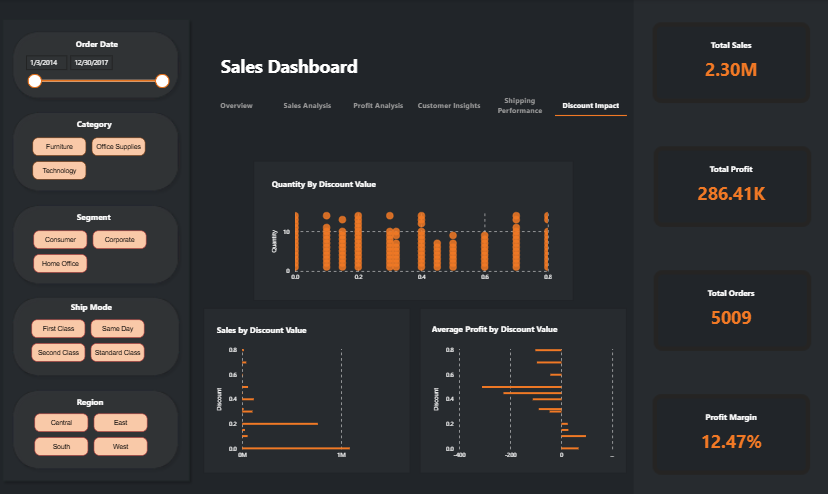

The dashboard page shown, as its layout file describes it:
{"tool":"powerbi","page":{"name":"Discount Impact","canvas":[1500,900],"ordinal":5},"visuals":[{"type":"textbox","box":[396,94,272,68],"z":0},{"type":"slicer","fields":{"Values":["DimOrder.Order Date"]},"box":[35.6,91.6,280,78.9],"z":1000},{"type":"ChicletSlicer1448559807354","fields":{"Category":["DimCategory.Category"]},"box":[51.5,240.2,244,102],"z":2000},{"type":"textbox","box":[133.3,64.9,206.7,35.6],"z":3000},{"type":"textbox","box":[135.5,210.2,208,36],"z":4000},{"type":"ChicletSlicer1448559807354","fields":{"Category":["DimSegment.Segment"]},"box":[51.8,408.2,244.4,102.2],"z":5000},{"type":"textbox","box":[136.2,378.2,207.8,35.6],"z":6000},{"type":"ChicletSlicer1448559807354","fields":{"Category":["DimShipping.Ship Mode"]},"box":[49.1,569.8,244.4,102.2],"z":7000},{"type":"textbox","box":[124.2,539.6,208,36],"z":8000},{"type":"ChicletSlicer1448559807354","fields":{"Category":["DimRegion.Region"]},"box":[54,740,244,102],"z":9000},{"type":"textbox","box":[136,712,208,36],"z":10000},{"type":"card","title":"Total Sales","fields":{"Values":["Sum(FactSales.Sales)"]},"box":[1218,72,210,88],"z":11000},{"type":"card","title":"Total Profit","fields":{"Values":["Sum(FactSales.Profit)"]},"box":[1218,296,210,88],"z":12000},{"type":"card","title":"Total Orders","fields":{"Values":["Count(FactSales.Order ID)"]},"box":[1218,520,210,88],"z":13000},{"type":"card","title":"Profit Margin","fields":{"Values":["FactSales.Profit Margin %"]},"box":[1218,744,210,88],"z":14000},{"type":"pageNavigator","box":[370,166,758,50],"z":15000},{"type":"shape","box":[1004,182,130,56],"z":16000},{"type":"textbox","box":[388,582,280,38],"z":17000},{"type":"clusteredBarChart","fields":{"Y":["Sum(FactSales.Sales)"],"Category":["FactSales.Discount"]},"box":[388,620,336,222],"z":18000},{"type":"textbox","box":[778,580,280,38],"z":19000},{"type":"clusteredBarChart","fields":{"Category":["FactSales.Discount"],"Y":["Avg(FactSales.Profit)"]},"box":[780,620,336,222],"z":20000},{"type":"scatterChart","fields":{"X":["FactSales.Discount"],"Y":["FactSales.Quantity"]},"box":[488,370,516,150],"z":21000},{"type":"textbox","box":[488,318,280,38],"z":22000}]}

Visuals, with their boxes in screenshot pixels (x1, y1, x2, y2), scaled from the page's 1500x900 canvas onto the 828x495 screenshot:
textbox: <bbox>219, 52, 369, 89</bbox>
slicer - DimOrder.Order Date: <bbox>20, 50, 174, 94</bbox>
ChicletSlicer1448559807354 - DimCategory.Category: <bbox>28, 132, 163, 188</bbox>
textbox: <bbox>74, 36, 188, 55</bbox>
textbox: <bbox>75, 116, 190, 135</bbox>
ChicletSlicer1448559807354 - DimSegment.Segment: <bbox>29, 225, 164, 281</bbox>
textbox: <bbox>75, 208, 190, 228</bbox>
ChicletSlicer1448559807354 - DimShipping.Ship Mode: <bbox>27, 313, 162, 370</bbox>
textbox: <bbox>69, 297, 183, 317</bbox>
ChicletSlicer1448559807354 - DimRegion.Region: <bbox>30, 407, 164, 463</bbox>
textbox: <bbox>75, 392, 190, 411</bbox>
"Total Sales" card: <bbox>672, 40, 788, 88</bbox>
"Total Profit" card: <bbox>672, 163, 788, 211</bbox>
"Total Orders" card: <bbox>672, 286, 788, 334</bbox>
"Profit Margin" card: <bbox>672, 409, 788, 458</bbox>
pageNavigator: <bbox>204, 91, 623, 119</bbox>
shape: <bbox>554, 100, 626, 131</bbox>
textbox: <bbox>214, 320, 369, 341</bbox>
clusteredBarChart - Sum(FactSales.Sales) x FactSales.Discount: <bbox>214, 341, 400, 463</bbox>
textbox: <bbox>429, 319, 584, 340</bbox>
clusteredBarChart - FactSales.Discount x Avg(FactSales.Profit): <bbox>431, 341, 616, 463</bbox>
scatterChart - FactSales.Discount x FactSales.Quantity: <bbox>269, 204, 554, 286</bbox>
textbox: <bbox>269, 175, 424, 196</bbox>
